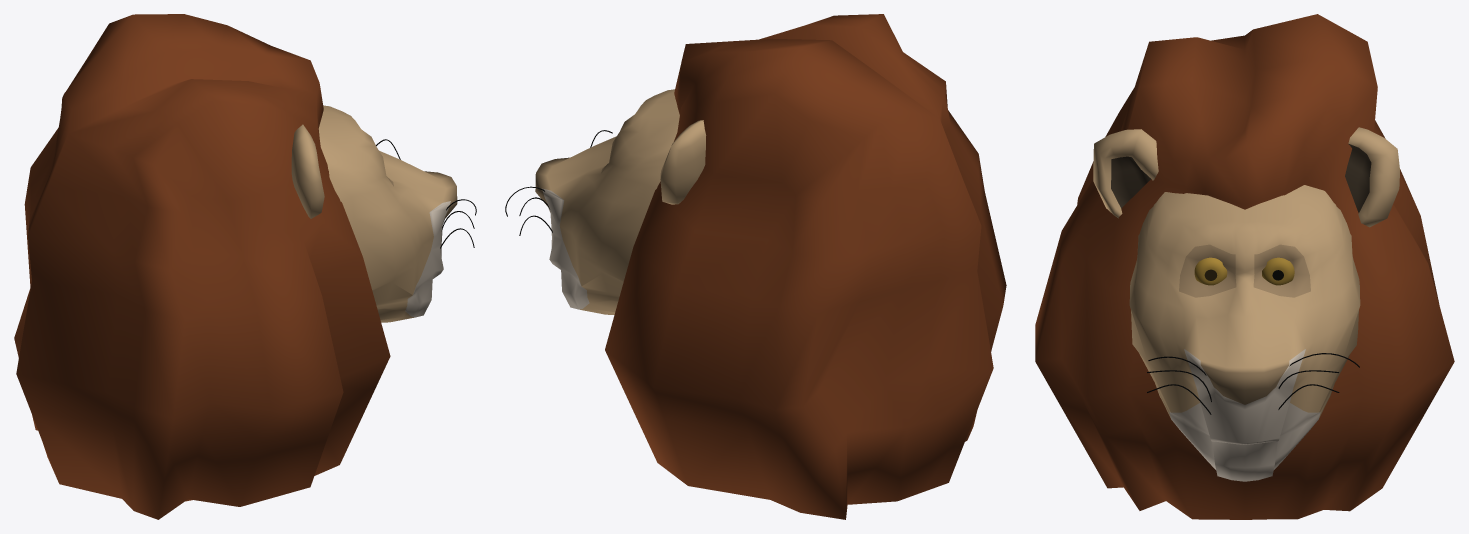
File: Lion.glb
3 views of the same model, side by side, from view 1: azimuth 30°, elevation 25°; view 2: azimuth 150°, elevation 25°; view 3: azimuth 270°, elevation 25° (orthographic). The views are drawn at different scales.
Visible parts, largest first — view 1: BezierCurve; view 2: BezierCurve; view 3: BezierCurve.
Part boxes in pixels (<box>): BezierCurve: <box>14,14,476,519</box>; BezierCurve: <box>505,14,1006,519</box>; BezierCurve: <box>1035,14,1454,519</box>.
Bounding box in the file's own units: 1.6 × 1.46 × 1.28.
